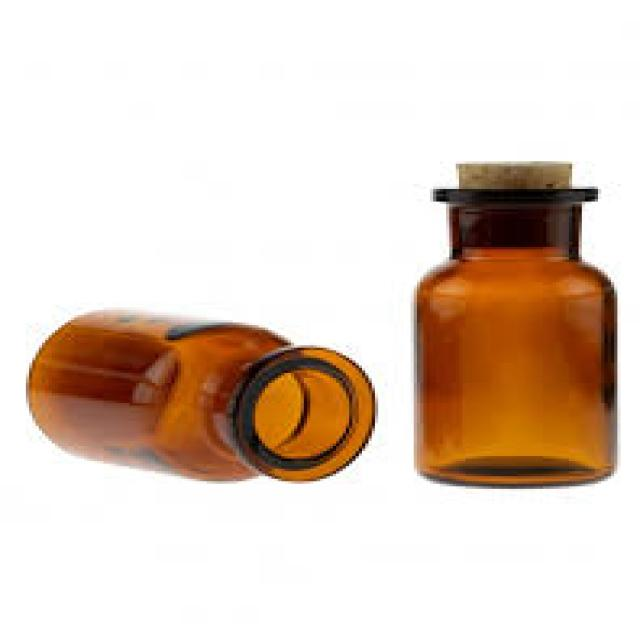glass: (411, 187, 614, 487), (23, 307, 372, 479)
